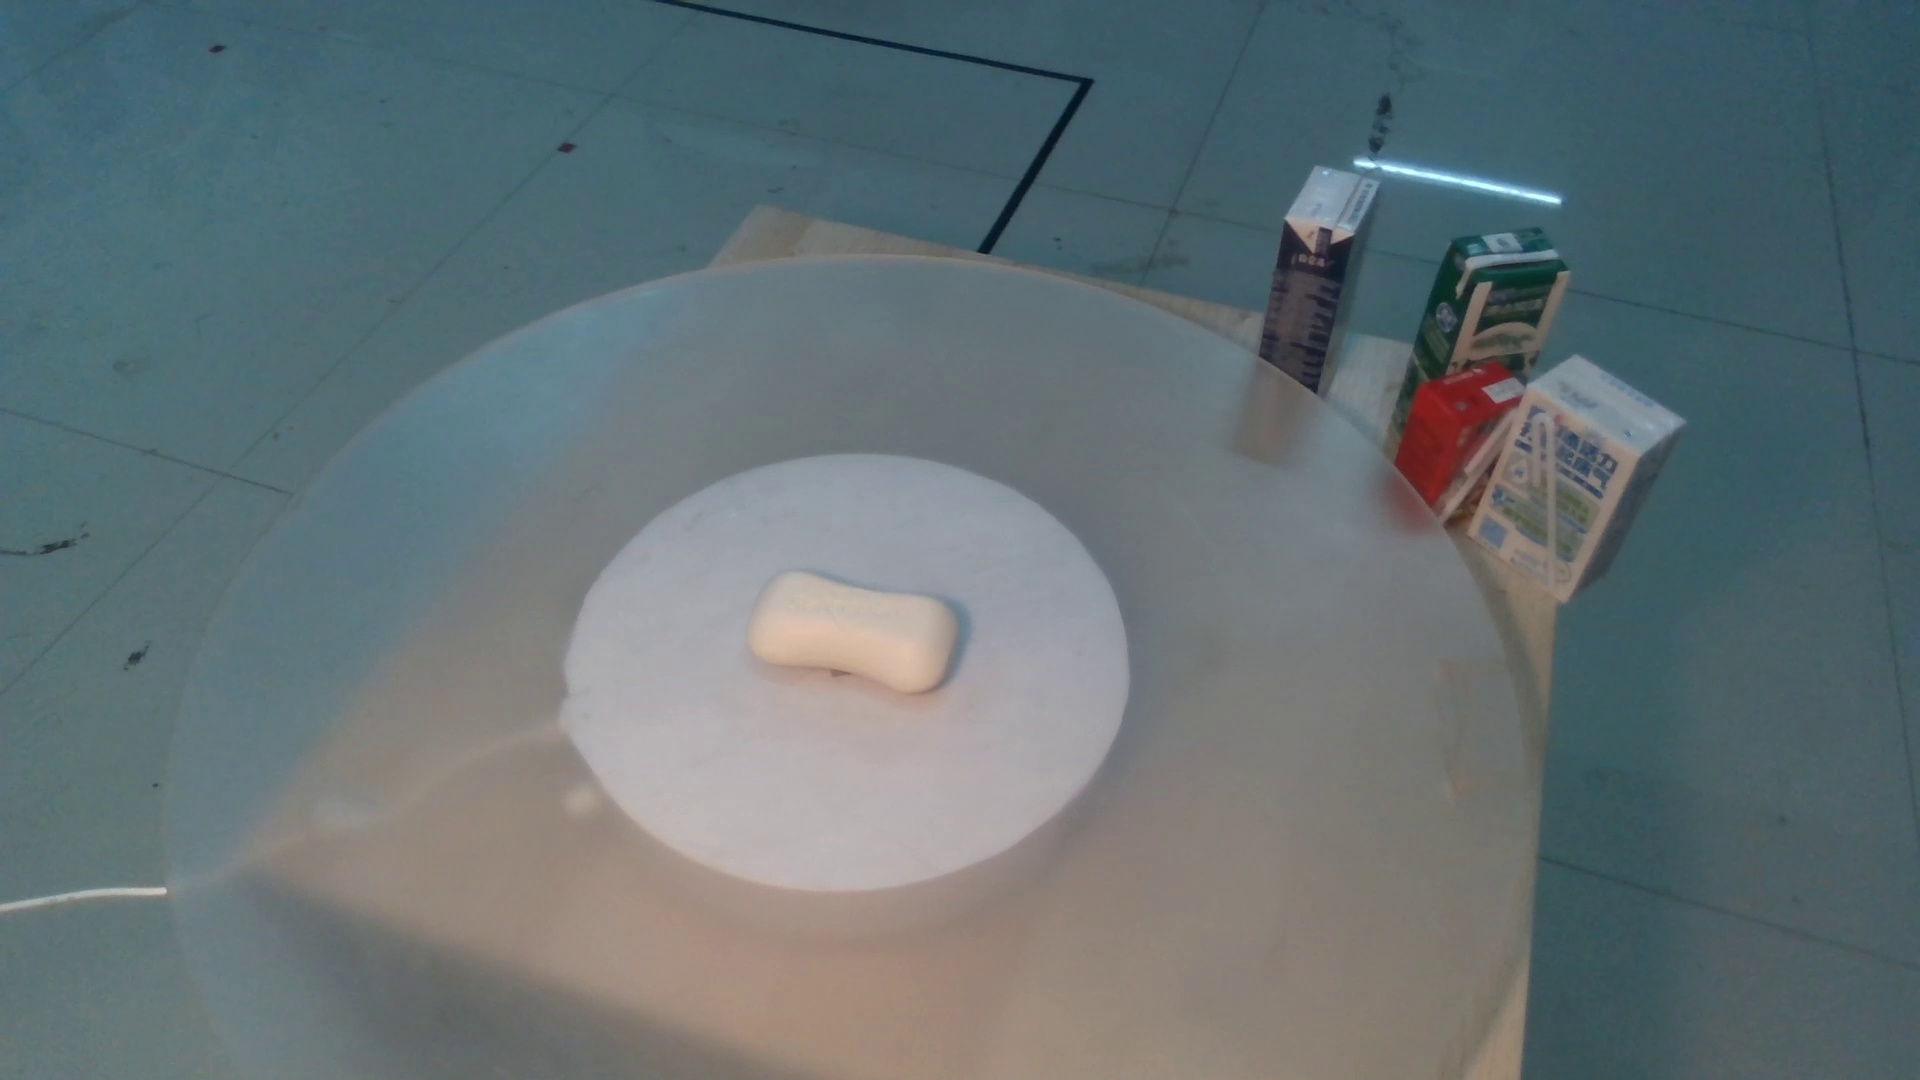CA003_1: (738, 524, 989, 719)
